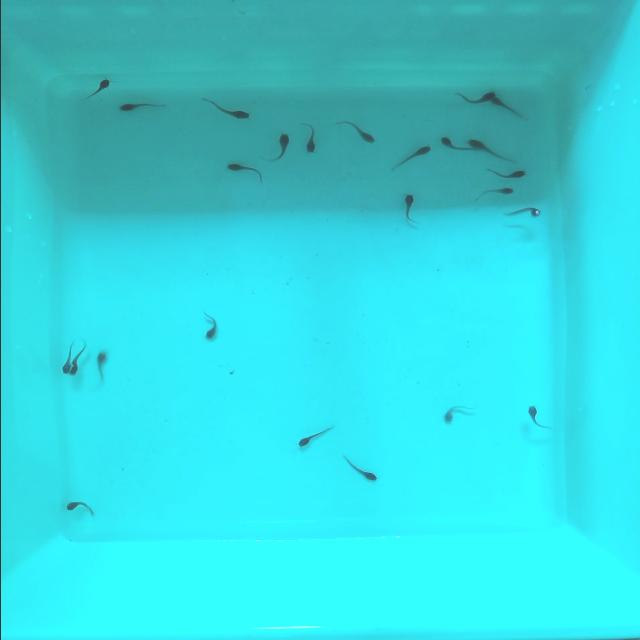lele: (384, 144, 432, 175), (196, 95, 250, 122), (463, 137, 516, 164), (338, 453, 383, 484), (332, 117, 377, 146), (291, 423, 337, 450), (485, 95, 529, 123), (521, 403, 554, 437), (450, 88, 502, 107), (78, 77, 114, 104), (436, 399, 472, 425), (433, 134, 475, 156), (66, 341, 89, 377), (221, 162, 266, 180), (266, 133, 291, 164), (116, 100, 166, 114), (92, 349, 109, 387), (200, 312, 220, 343), (471, 186, 512, 201), (402, 194, 418, 228), (65, 501, 96, 518), (300, 124, 317, 155), (502, 206, 544, 218), (486, 168, 526, 179), (61, 342, 73, 375)
